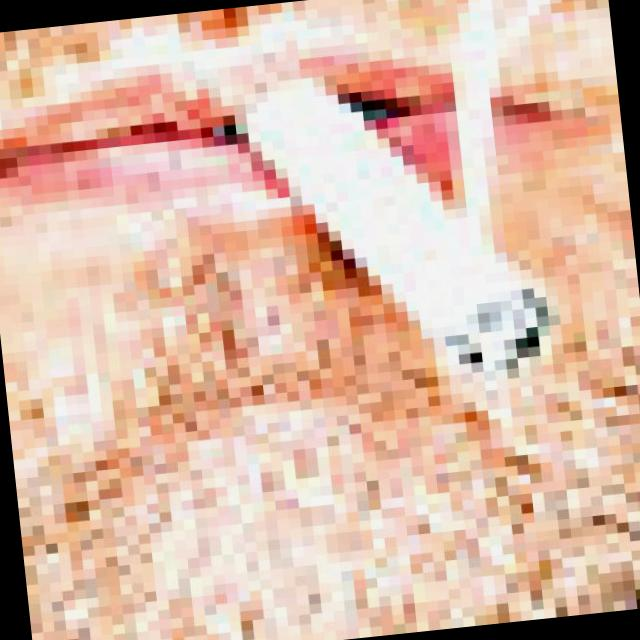smoke: (243, 54, 566, 412)
